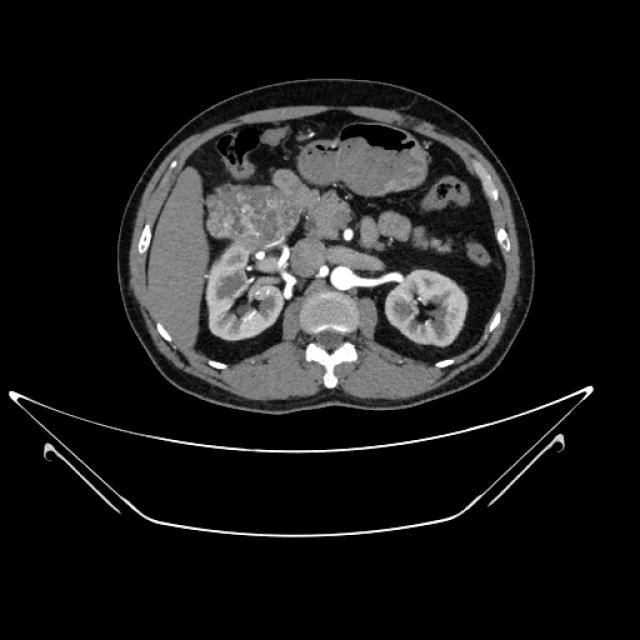Tumor: (210, 168, 307, 251)
